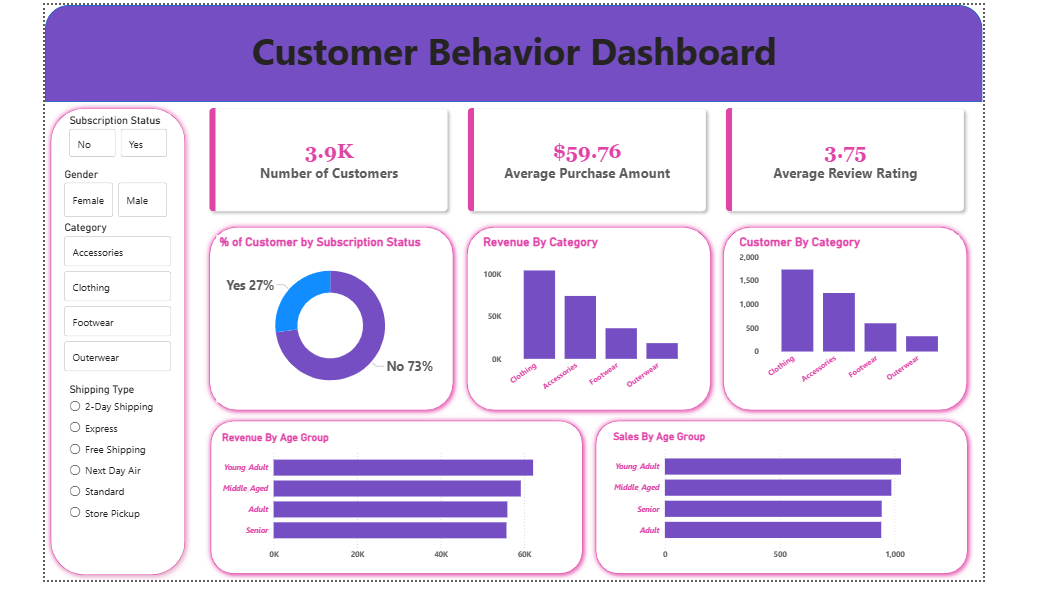

Layout of this report page (visuals, bound fields, positions):
{"tool":"powerbi","page":{"name":"Page 1","canvas":[1500,920],"ordinal":0},"visuals":[{"type":"cardVisual","fields":{"Data":["customer_behavior customer.Number of Customers","customer_behavior customer.Average Purchase Amount","customer_behavior customer.Average Review Rating"]},"box":[233.3,136.7,1266.7,223.3],"z":0},{"type":"shape","box":[0,0,1500,155],"z":1000},{"type":"textbox","box":[233.3,28.3,1033.3,126.7],"z":2000},{"type":"shape","box":[253.3,345,408.3,311.7],"z":3000},{"type":"donutChart","title":"% of Customer by Subscription Status","fields":{"Category":["customer_behavior customer.subscription_status"],"Y":["CountNonNull(customer_behavior customer.customer_id)"]},"box":[273.3,368.3,365,268.3],"z":4000},{"type":"shape","box":[665,345,408.3,311.7],"z":5000},{"type":"shape","box":[1076.7,345,408.3,311.7],"z":6000},{"type":"clusteredColumnChart","title":"Revenue By Category","fields":{"Y":["Sum(customer_behavior customer.purchase_amount)"],"Category":["customer_behavior customer.category"]},"box":[695,368.3,350,268.3],"z":7000},{"type":"clusteredColumnChart","title":"Customer By Category","fields":{"Y":["CountNonNull(customer_behavior customer.customer_id)"],"Category":["customer_behavior customer.category"]},"box":[1106.7,368.3,356.7,256.7],"z":8000},{"type":"shape","box":[0,155,233.3,765],"z":9000},{"type":"advancedSlicerVisual","fields":{"Values":["customer_behavior customer.subscription_status"]},"box":[33.3,173.3,166.7,75],"z":10000},{"type":"advancedSlicerVisual","fields":{"Values":["customer_behavior customer.gender"]},"box":[25,260,175,85],"z":11000},{"type":"advancedSlicerVisual","fields":{"Values":["customer_behavior customer.category"]},"box":[25,345,181.7,246.7],"z":12000},{"type":"listSlicer","fields":{"Values":["customer_behavior customer.shipping_type"]},"box":[33.3,603.3,150,293.3],"z":13000},{"type":"shape","box":[256.7,656.7,613.3,263.3],"z":14000},{"type":"clusteredBarChart","title":"Revenue By Age Group","fields":{"Y":["Sum(customer_behavior customer.purchase_amount)"],"Category":["customer_behavior customer.age_group"]},"box":[278.3,681.7,571.7,215],"z":15000},{"type":"shape","box":[871.7,656.7,613.3,263.3],"z":16000},{"type":"clusteredBarChart","title":"Sales By Age Group","fields":{"Category":["customer_behavior customer.age_group"],"Y":["CountNonNull(customer_behavior customer.customer_id)"]},"box":[903.3,680,550,216.7],"z":17000}]}

Visuals, with their boxes in screenshot pixels (x1, y1, x2, y2):
cardVisual - customer_behavior customer.Number of Customers x customer_behavior customer.Average Purchase Amount: left=185, top=85, right=971, bottom=223
shape: left=41, top=0, right=971, bottom=96
textbox: left=185, top=18, right=826, bottom=96
shape: left=198, top=214, right=451, bottom=407
"% of Customer by Subscription Status" donutChart: left=210, top=229, right=437, bottom=395
shape: left=453, top=214, right=706, bottom=407
shape: left=709, top=214, right=962, bottom=407
"Revenue By Category" clusteredColumnChart: left=472, top=229, right=689, bottom=395
"Customer By Category" clusteredColumnChart: left=727, top=229, right=949, bottom=388
shape: left=41, top=96, right=185, bottom=571
advancedSlicerVisual - customer_behavior customer.subscription_status: left=61, top=108, right=165, bottom=154
advancedSlicerVisual - customer_behavior customer.gender: left=56, top=161, right=165, bottom=214
advancedSlicerVisual - customer_behavior customer.category: left=56, top=214, right=169, bottom=367
listSlicer - customer_behavior customer.shipping_type: left=61, top=374, right=154, bottom=556
shape: left=200, top=407, right=580, bottom=571
"Revenue By Age Group" clusteredBarChart: left=213, top=423, right=568, bottom=556
shape: left=581, top=407, right=962, bottom=571
"Sales By Age Group" clusteredBarChart: left=601, top=422, right=942, bottom=556
